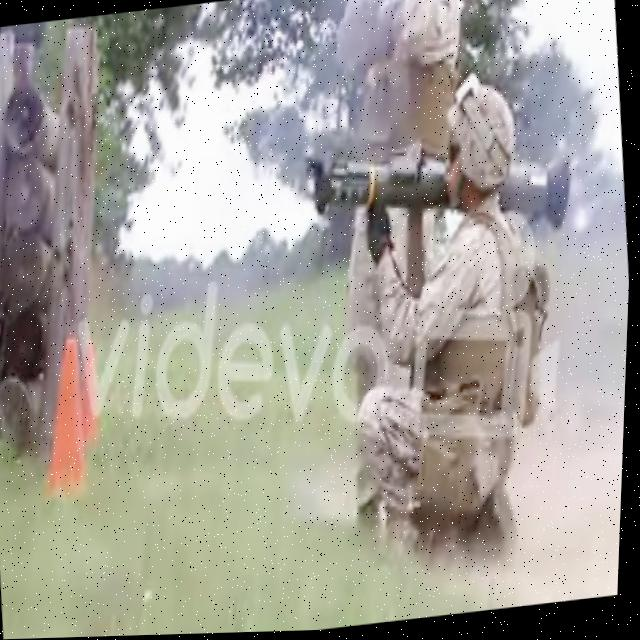rocket: (301, 128, 580, 263)
